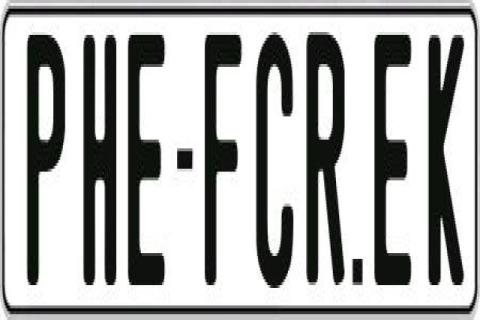C: (255, 29, 294, 288)
E: (371, 26, 412, 294), (128, 26, 170, 282)
F: (204, 35, 247, 303)
H: (83, 26, 117, 282)
K: (425, 29, 460, 282)
P: (25, 32, 63, 291)
R: (304, 24, 341, 294)
